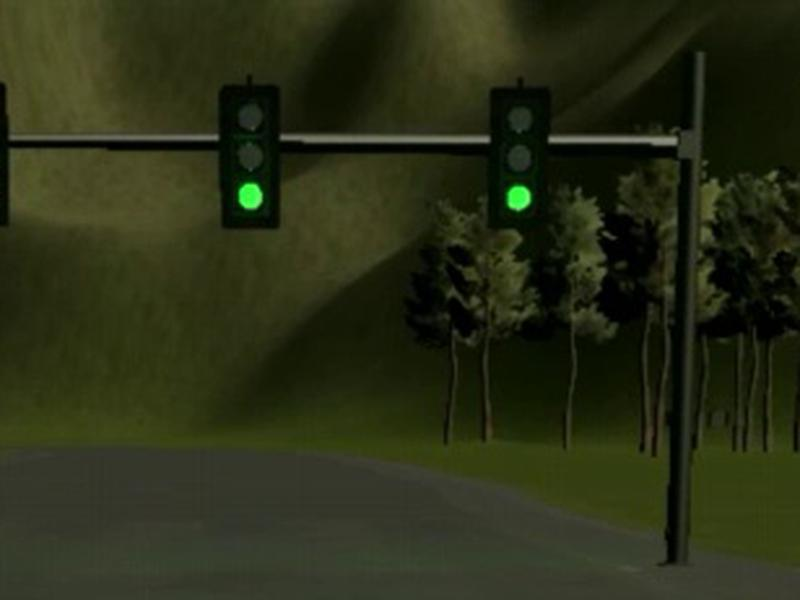Green: (218, 84, 280, 228), (487, 87, 550, 228)
